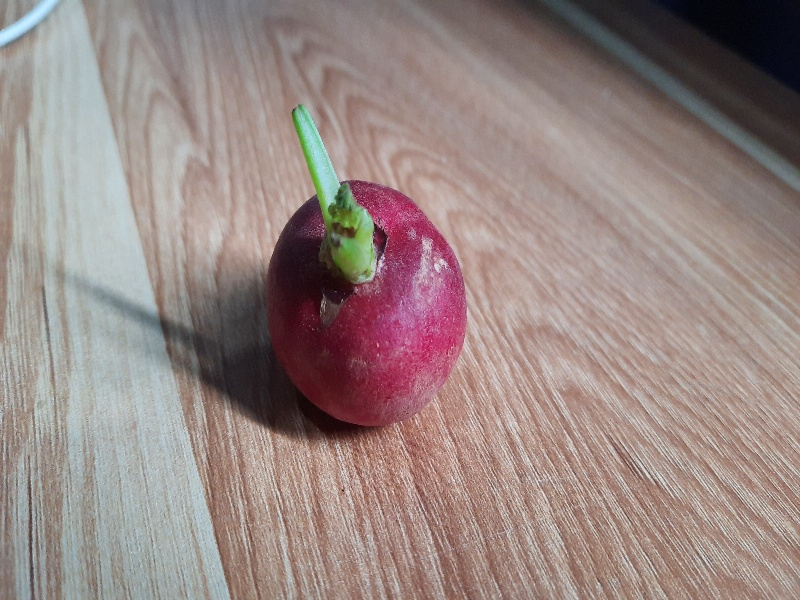vege: (250, 96, 488, 438)
